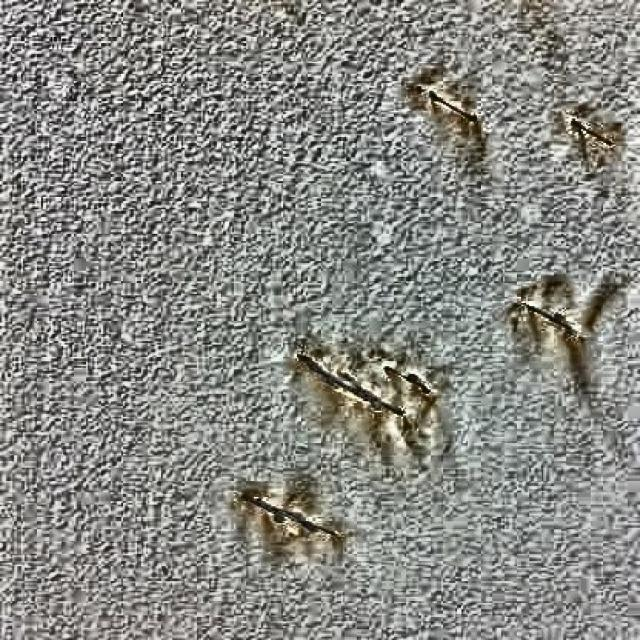crack: (298, 360, 400, 417), (245, 491, 342, 540), (523, 302, 588, 336), (430, 92, 476, 119), (391, 368, 431, 392), (580, 122, 614, 144)
